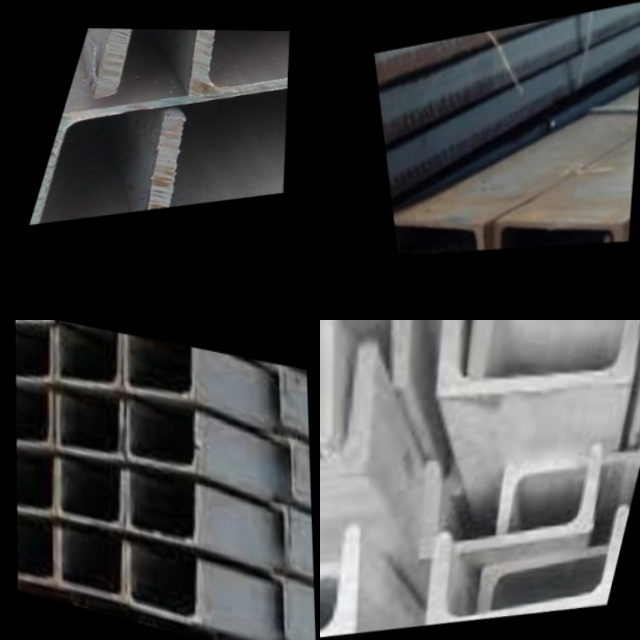Shveller: (30, 80, 288, 225), (419, 507, 629, 631), (410, 442, 604, 561), (431, 320, 640, 395), (157, 89, 287, 209), (496, 449, 640, 535), (99, 29, 290, 93), (479, 542, 621, 624), (471, 320, 640, 379), (195, 30, 290, 92), (128, 546, 201, 624), (126, 472, 199, 545), (126, 400, 198, 473), (56, 389, 124, 464), (124, 334, 195, 405), (60, 527, 126, 601), (59, 458, 125, 531), (497, 214, 624, 249), (57, 326, 121, 391), (394, 214, 483, 255), (17, 452, 57, 519), (16, 386, 53, 455), (17, 520, 56, 585), (16, 326, 53, 390)
